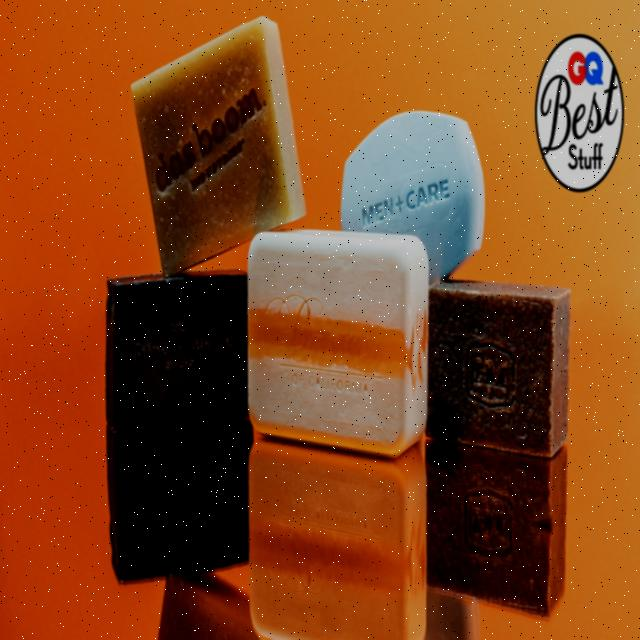soap: (134, 13, 308, 282), (247, 225, 432, 448), (423, 268, 571, 471), (338, 106, 489, 292), (100, 265, 256, 438)
